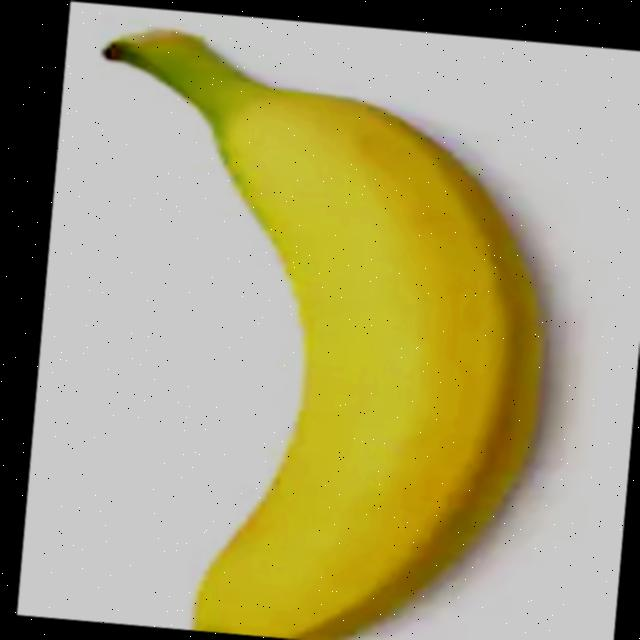Ripe: (27, 15, 640, 640)
